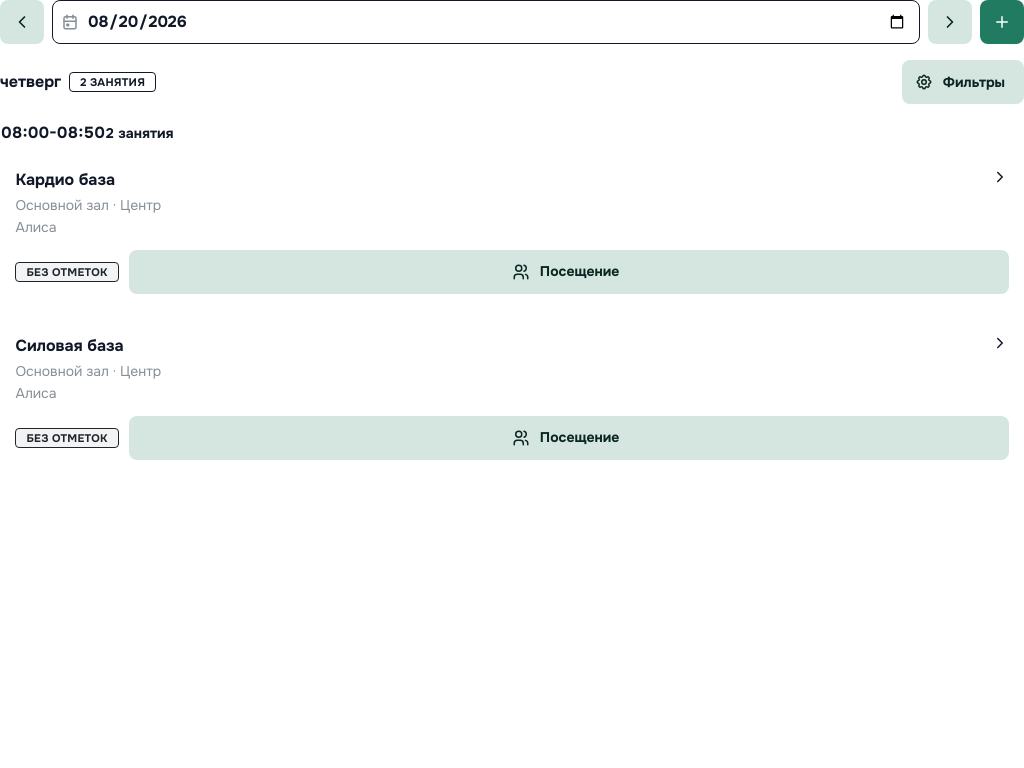
Test case: GroupScheduleScreen occurrence calendar › selects response-provided group type, writes it to URL, request and active count
expect the element with test id "schedule-card-occurrence-cardio" is shown: met, box x1=1 y1=154 x2=1023 y2=308
Click the button with aria-label "Параметры календаря" at (963, 82), box x1=902 y1=60 x2=1023 y2=104
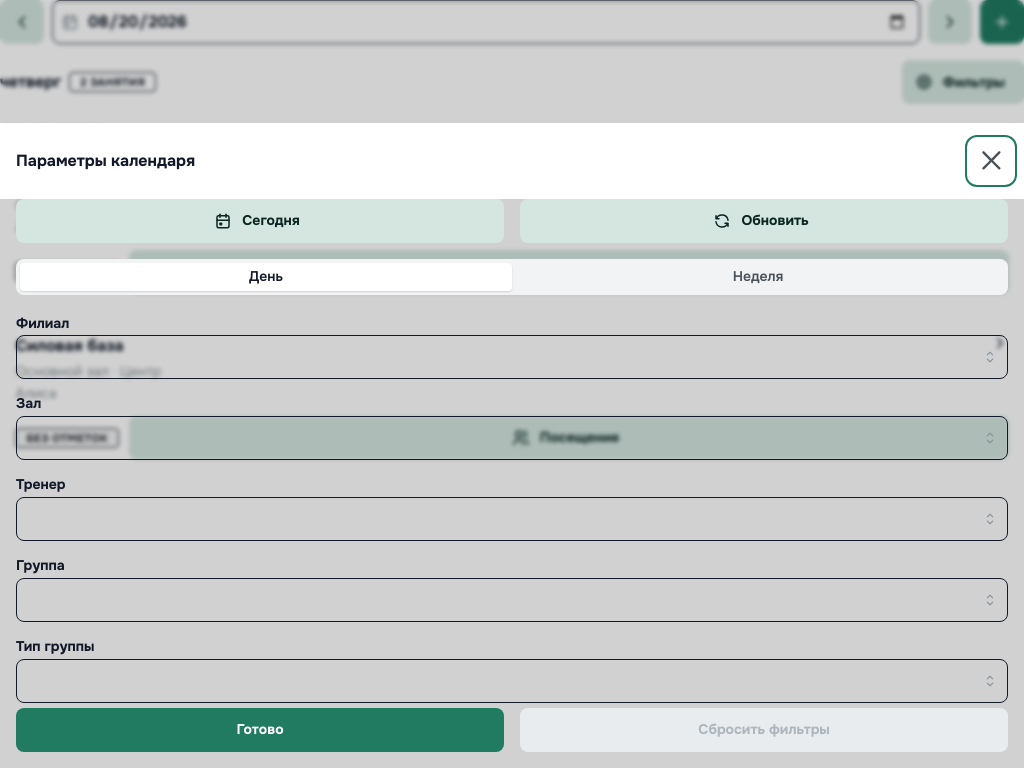
Click the dropdown labelled "Тип группы" at (512, 681), box x1=16 y1=659 x2=1008 y2=703
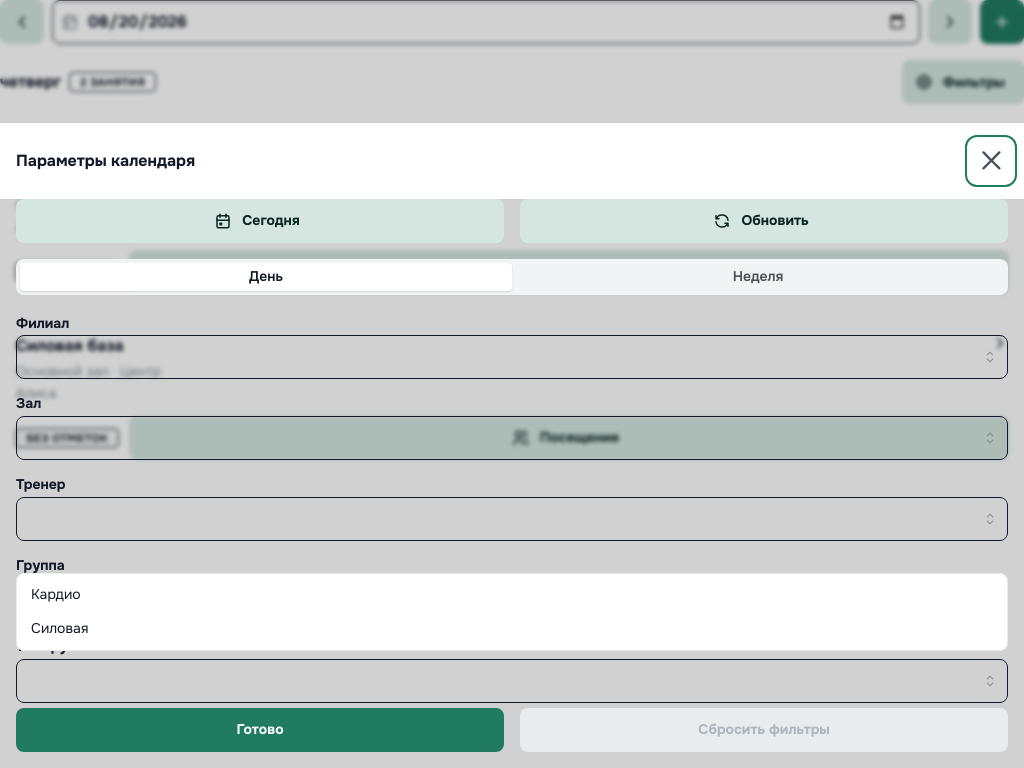
Click the option "Силовая" at (60, 628), box x1=31 y1=619 x2=88 y2=637
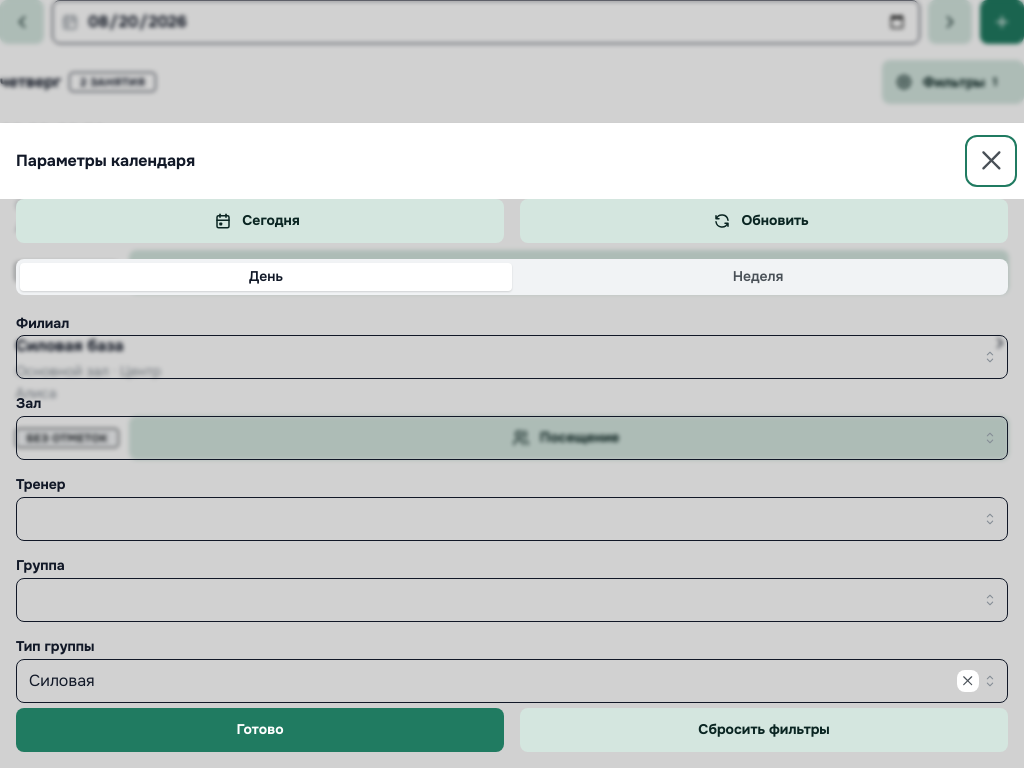
expect the button with aria-label "активных фильтров: 1" is shown: met, box x1=882 y1=60 x2=1023 y2=104
